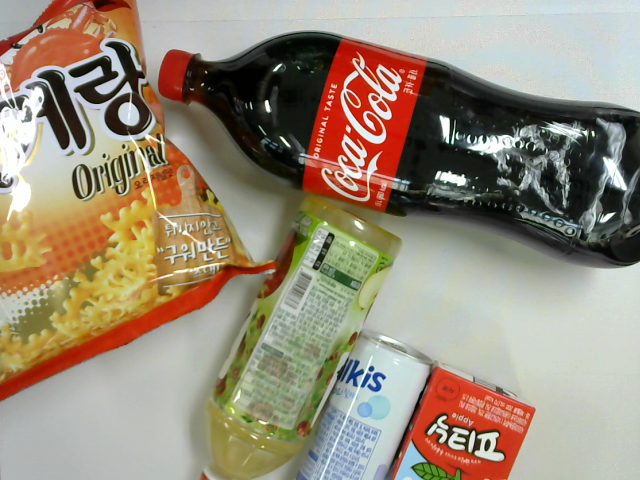Coca_Cola_1.5L: (159, 30, 639, 269)
Crabrang: (1, 1, 278, 404)
Milkies_250ml: (295, 329, 435, 480)
Morning_Apple_500ml: (202, 197, 404, 480)
Picnic_Apple: (393, 363, 538, 480)
